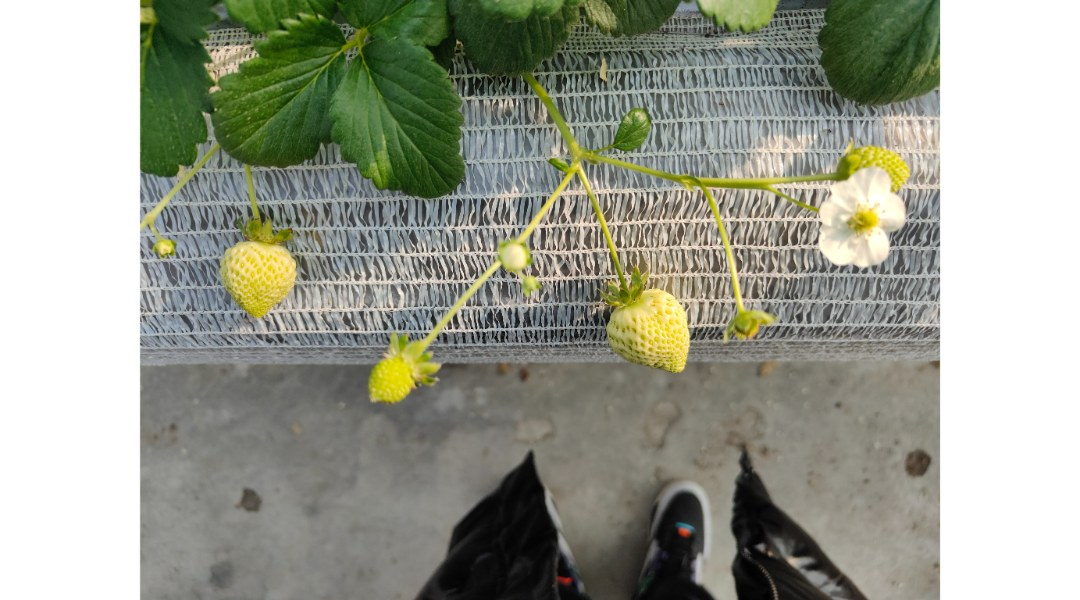berry: (591, 266, 711, 387), (204, 210, 314, 323), (359, 332, 450, 404), (489, 235, 525, 288), (725, 307, 771, 345), (139, 233, 175, 269)
flower: (799, 164, 912, 277)
strain: (705, 196, 761, 312), (417, 271, 493, 349), (599, 135, 680, 204), (716, 156, 832, 197), (158, 144, 228, 207), (586, 178, 624, 290), (528, 79, 580, 146), (528, 174, 571, 234)
